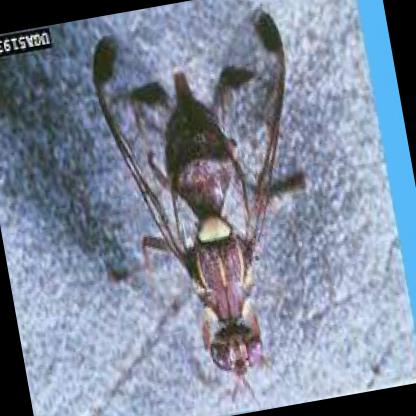fruit fly: (92, 6, 302, 378)
